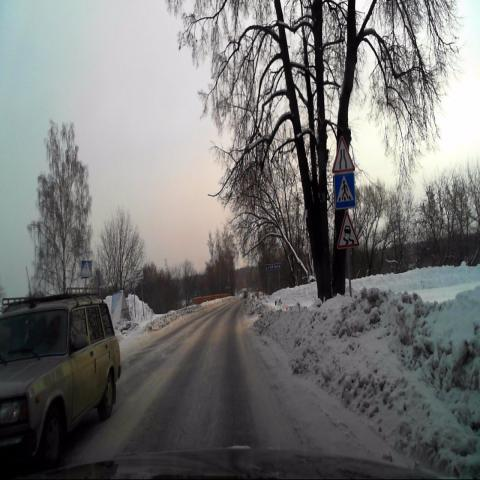1_20: (332, 135, 356, 173)
